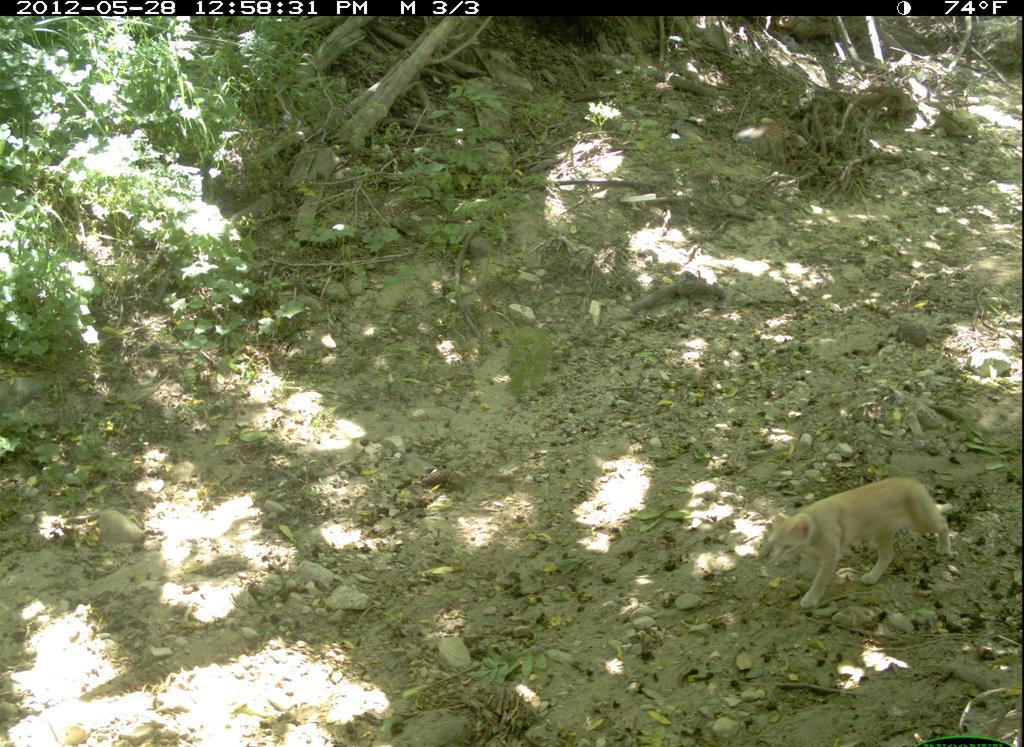cat: (756, 470, 959, 615)
